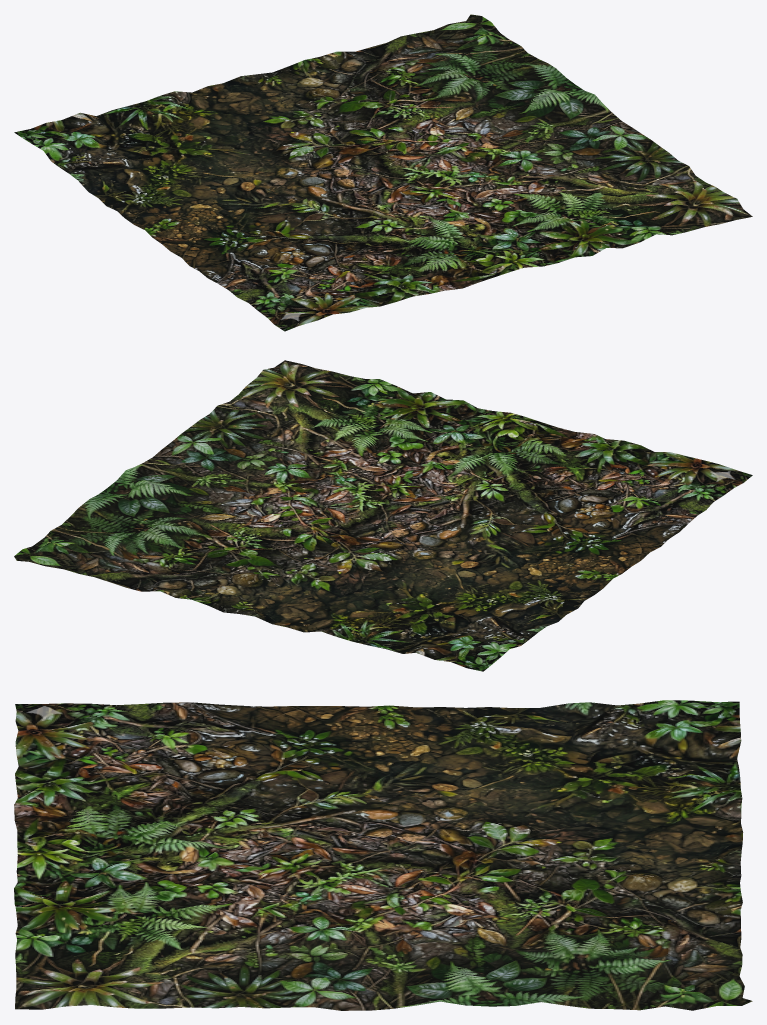
Rendered from jungle_ground_water.glb.
3 renders of one model, top to bottom at view 1: azimuth 30°, elevation 25°; view 2: azimuth 150°, elevation 25°; view 3: azimuth 270°, elevation 25°, orthographic. The views are drawn at different scales.
Parts seen in each view (by area): view 1: jungle_ground_water; view 2: jungle_ground_water; view 3: jungle_ground_water.
Boxes of the visible parts, x1,y1,x2,y2 form: jungle_ground_water: (14,14,752,331); jungle_ground_water: (14,360,752,671); jungle_ground_water: (14,700,752,1010).
Bounding box in the file's own units: 1.95 × 0.0527 × 1.97.
Materials: 1 (1 with a texture image).
